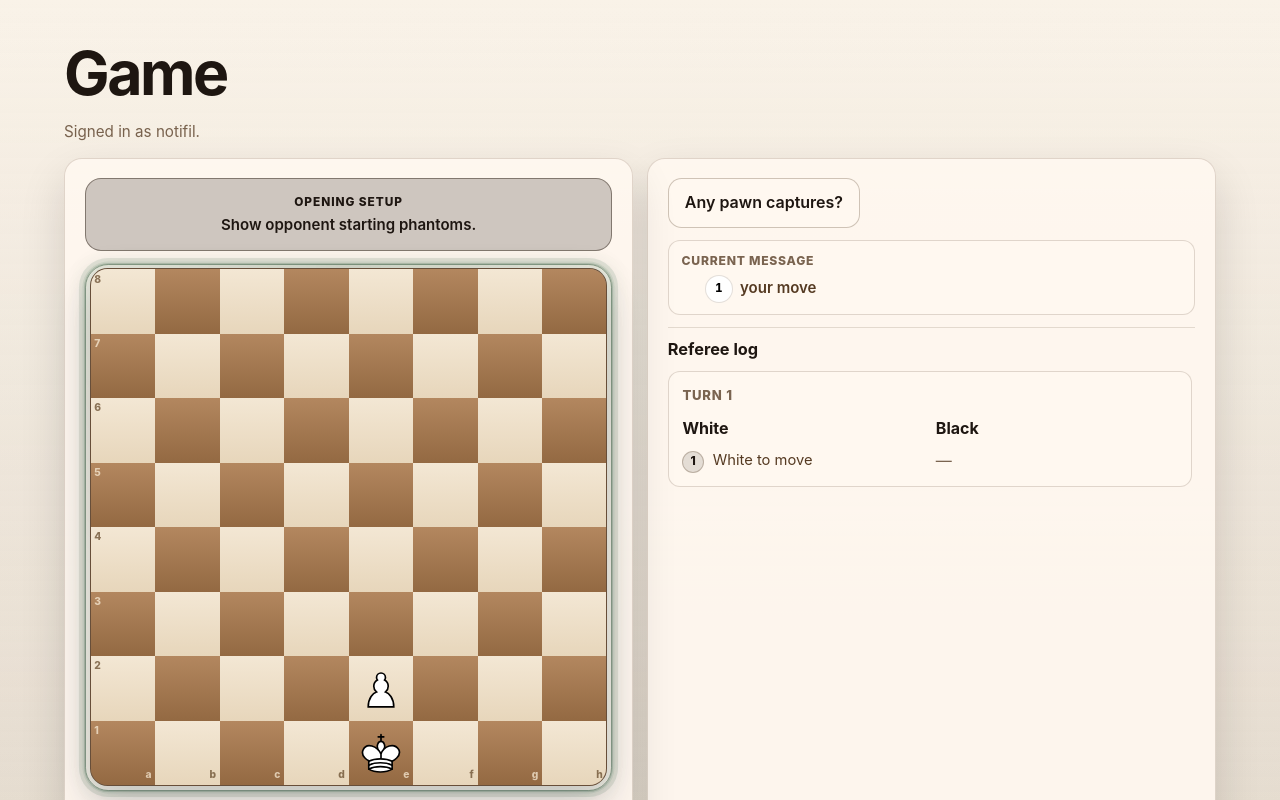
Test: GamePage › shows_only_backend_legal_move_dots_for_the_selected_piece
Step 1. Click the button named "Square e2" → (381, 688), box [349,656,413,721]
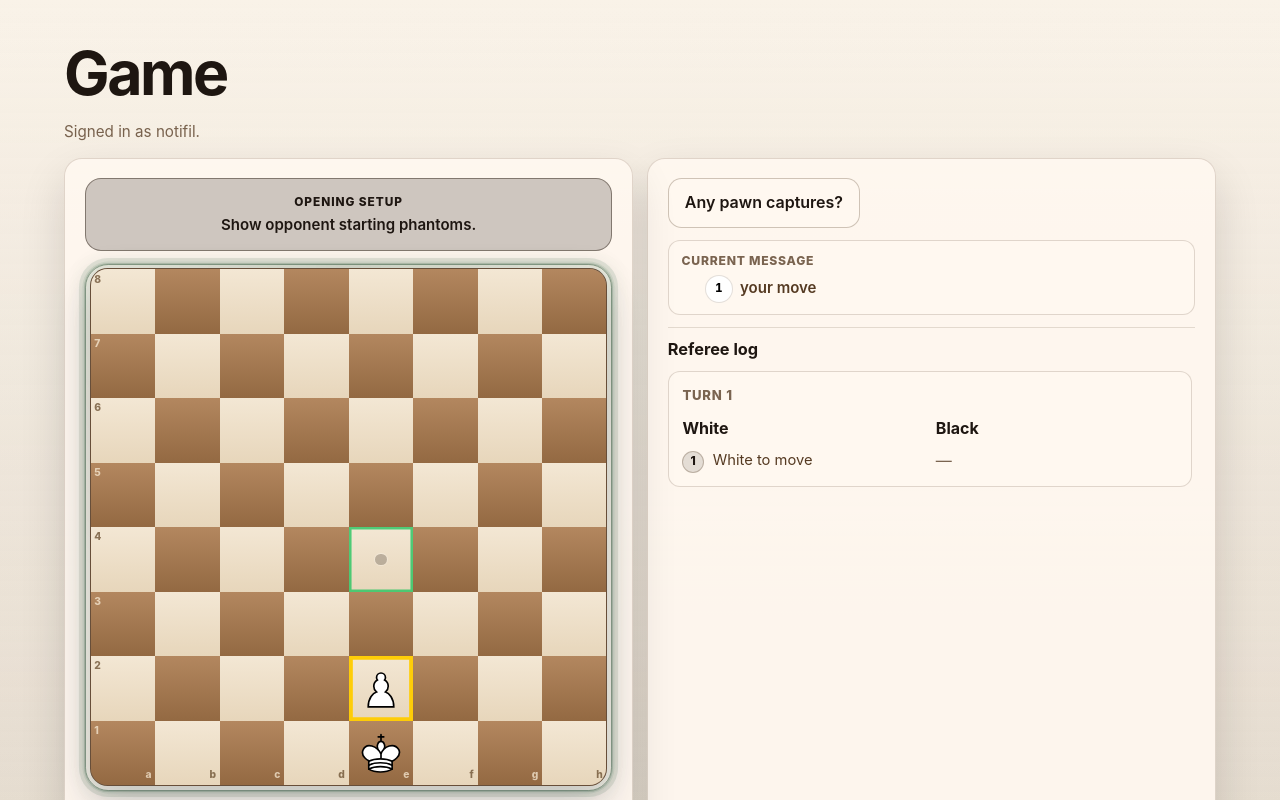
Check: the element with class "square__move-dot" is shown, box [375,554,387,565]
